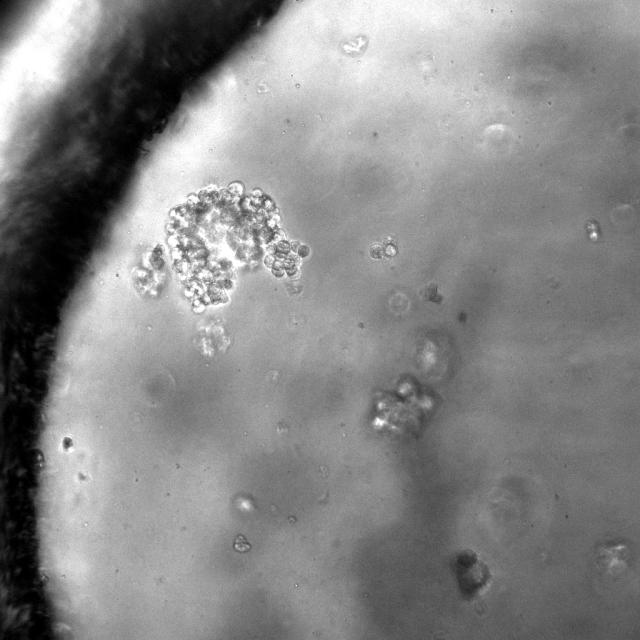organoid: (133, 181, 309, 312), (371, 374, 436, 437), (456, 550, 490, 598), (369, 237, 398, 259), (586, 219, 602, 242), (233, 534, 251, 553)
